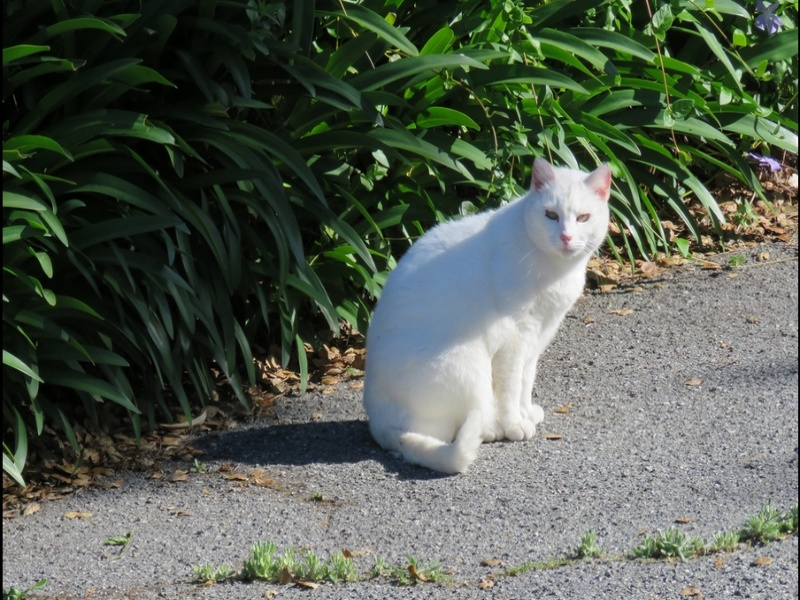cat: (363, 157, 614, 475)
